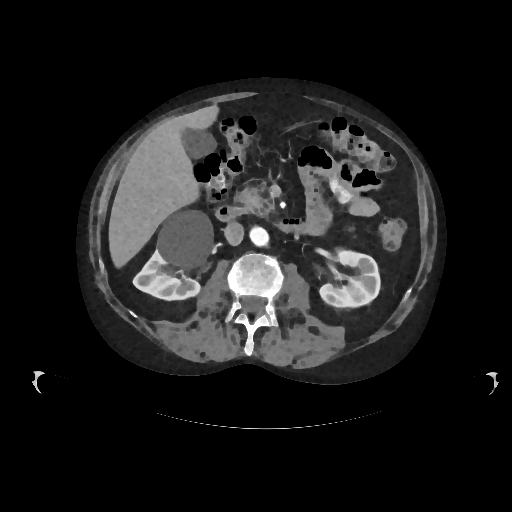Lesion: (150, 204, 219, 273)
